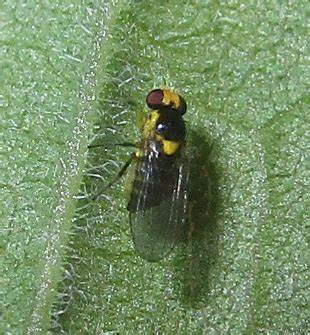Chloropidae: (85, 88, 199, 261)
